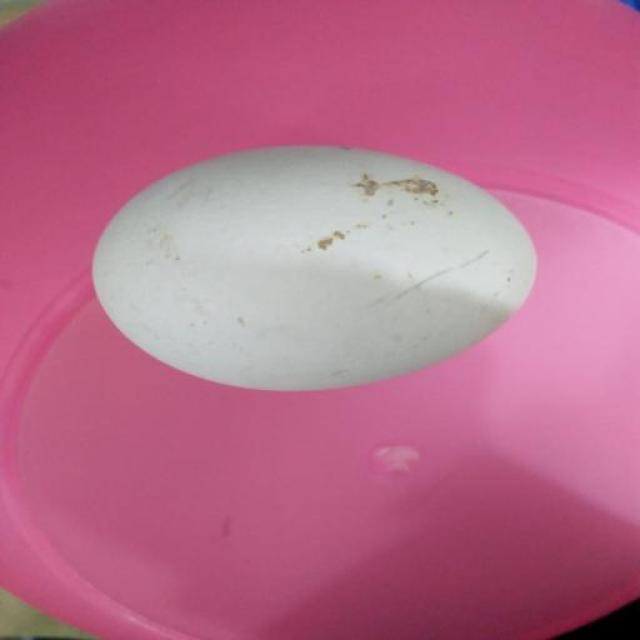telur: (95, 146, 536, 391)
